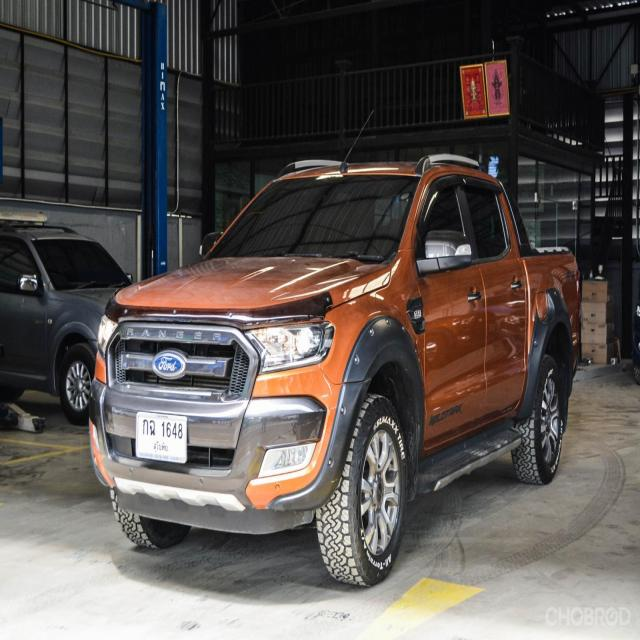license_plate: (134, 406, 190, 469)
